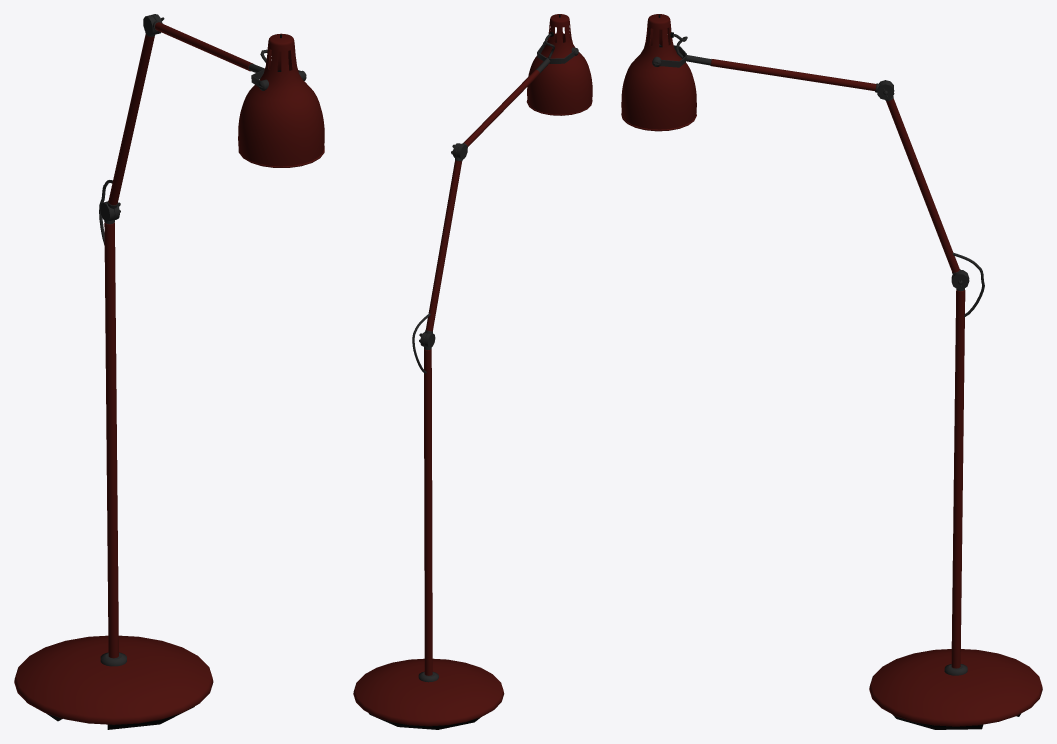
File: Floor Lamp.FBX
3 renders of one model, left to right at view 1: azimuth 30°, elevation 25°; view 2: azimuth 150°, elevation 25°; view 3: azimuth 270°, elevation 25°, orthographic. The views are drawn at different scales.
Parts seen in each view (by area): view 1: ARÖD; view 2: ARÖD; view 3: ARÖD.
Part boxes in pixels (<box>): ARÖD: <box>14,14,324,729</box>; ARÖD: <box>353,14,592,729</box>; ARÖD: <box>621,14,1042,729</box>.
Bounding box in the file's own units: 434 × 1883 × 1054.
